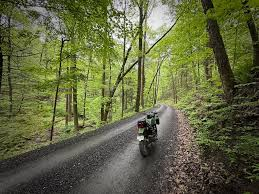motorcycle: (134, 114, 161, 156)
